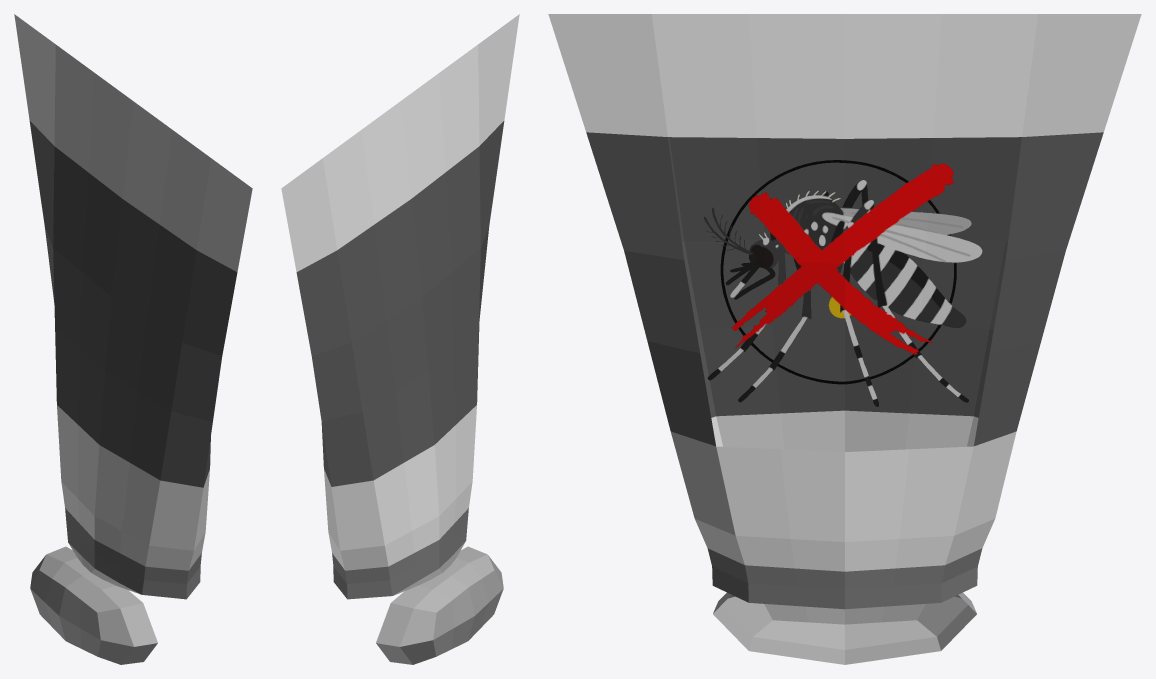
Rendered from Cream.fbx.
3 renders of one model, left to right at view 1: azimuth 30°, elevation 25°; view 2: azimuth 150°, elevation 25°; view 3: azimuth 270°, elevation 25°, orthographic. The views are drawn at different scales.
Visible parts, largest first — view 1: Cube, Cube.001; view 2: Cube, Cube.001; view 3: Cube, Cube.001.
Part boxes in pixels (x1,y1,x2,y2): Cube: (14, 14, 252, 599); Cube.001: (30, 546, 157, 664); Cube: (281, 14, 519, 599); Cube.001: (376, 546, 503, 664); Cube: (548, 14, 1141, 609); Cube.001: (713, 592, 976, 664).
Bounding box in the file's own units: 13.66 × 61.84 × 49.79.
5 materials, 1 textured.
